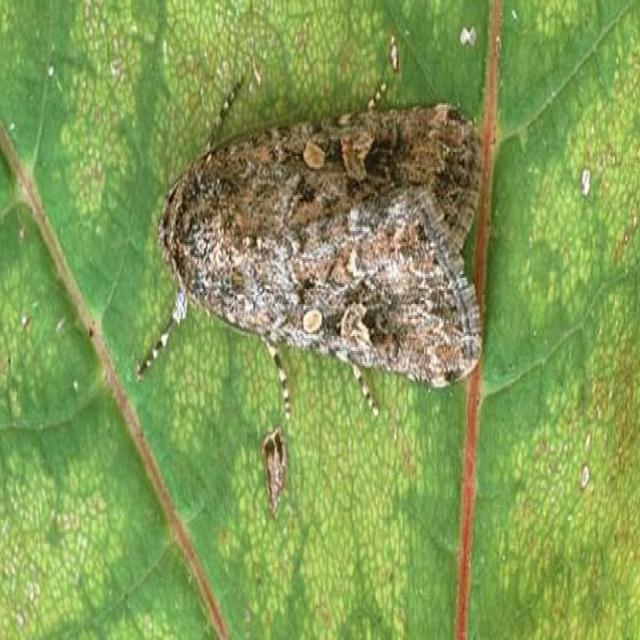army worm: (136, 73, 493, 398)
